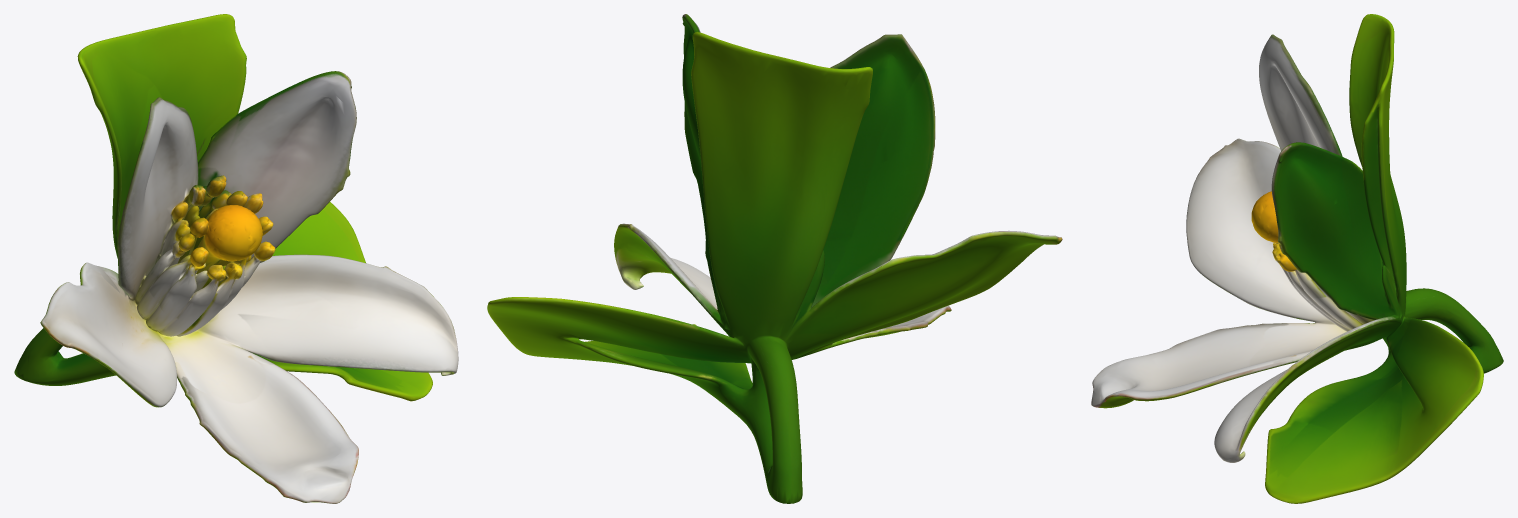
File: flor.glb
3 views of the same model, side by side, from view 1: azimuth 30°, elevation 25°; view 2: azimuth 150°, elevation 25°; view 3: azimuth 270°, elevation 25° (orthographic). The views are drawn at different scales.
Visible parts, largest first — view 1: node_0; view 2: node_0; view 3: node_0.
Part boxes in pixels (x1=…): node_0: x1=14, y1=14, x2=458, y2=503; node_0: x1=487, y1=14, x2=1062, y2=503; node_0: x1=1091, y1=14, x2=1503, y2=503.
Bounding box in the file's own units: 0.9343 × 0.7811 × 0.8341.
Materials: 1 (1 with a texture image).
